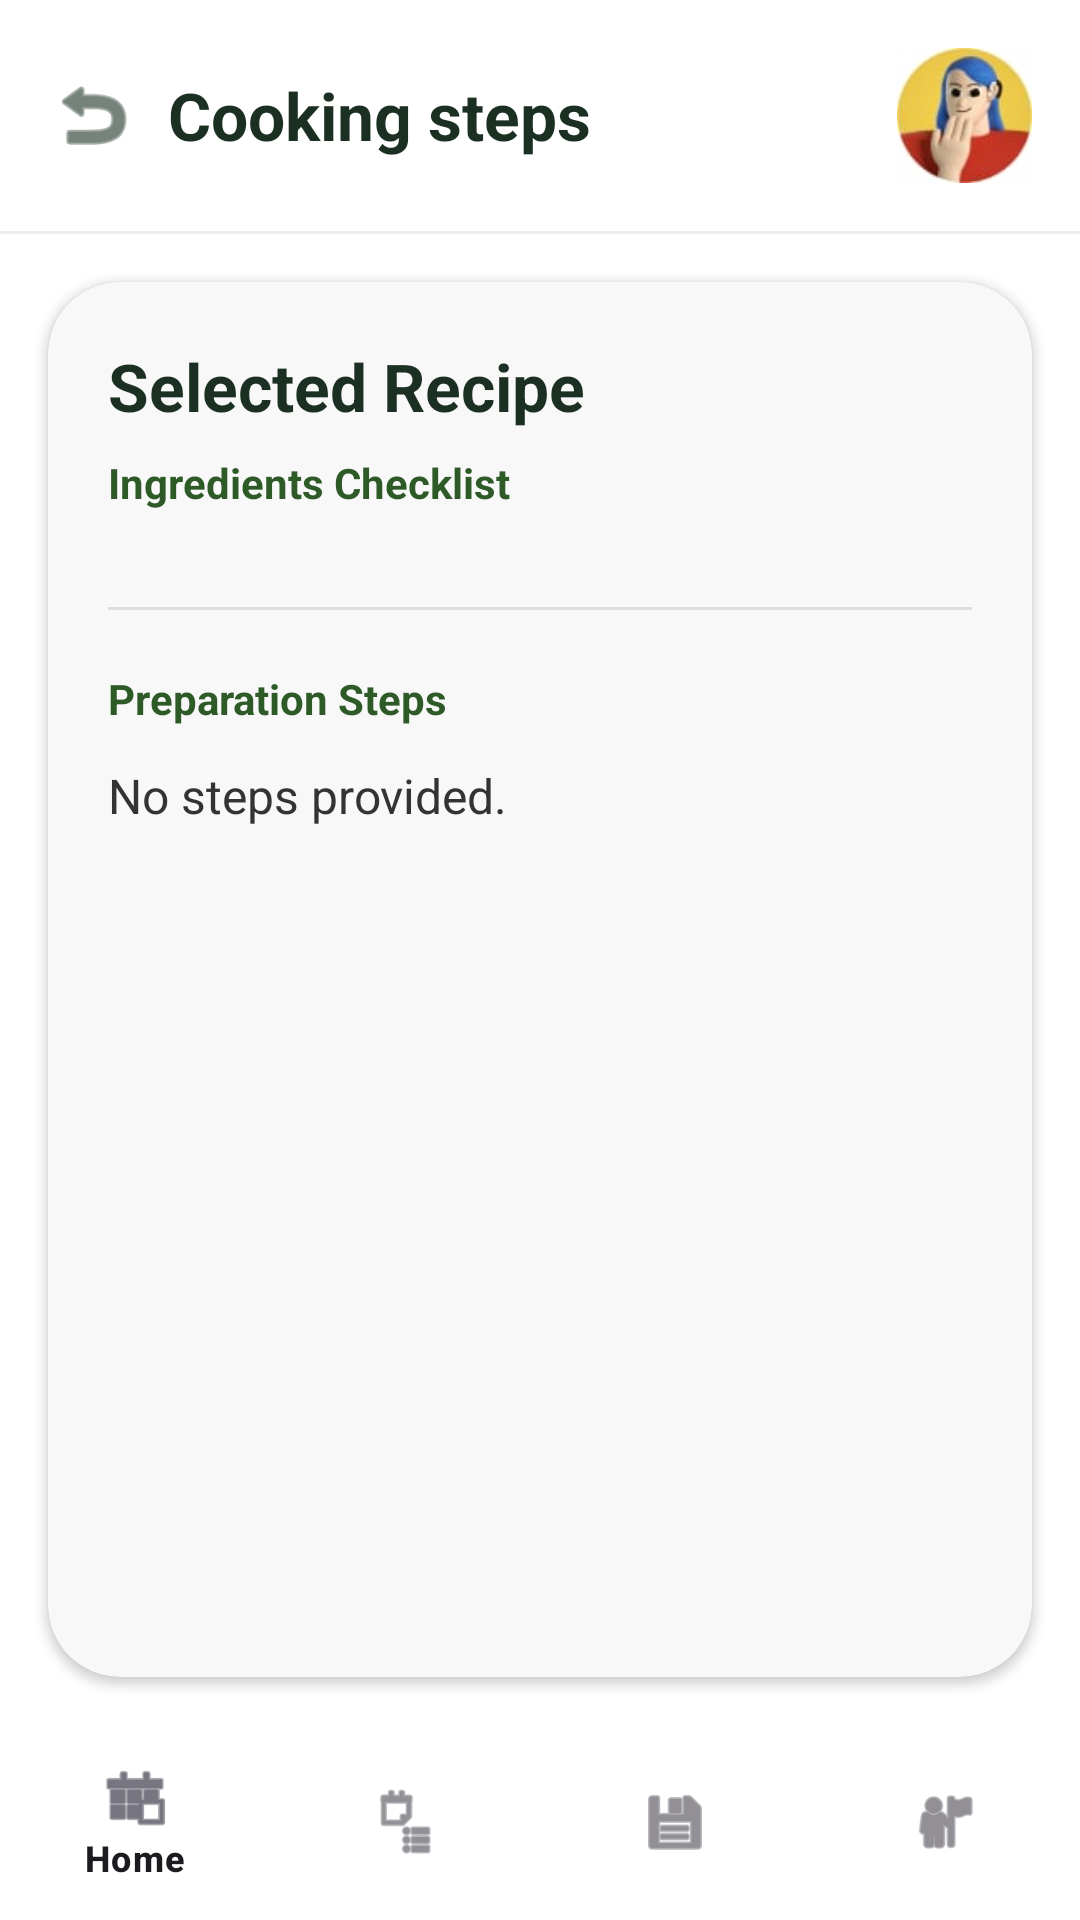

Named icons in this screenshot (1080 x 1920) and their centers, (x,y):
profile: (964,115)
revert: (94,115)
